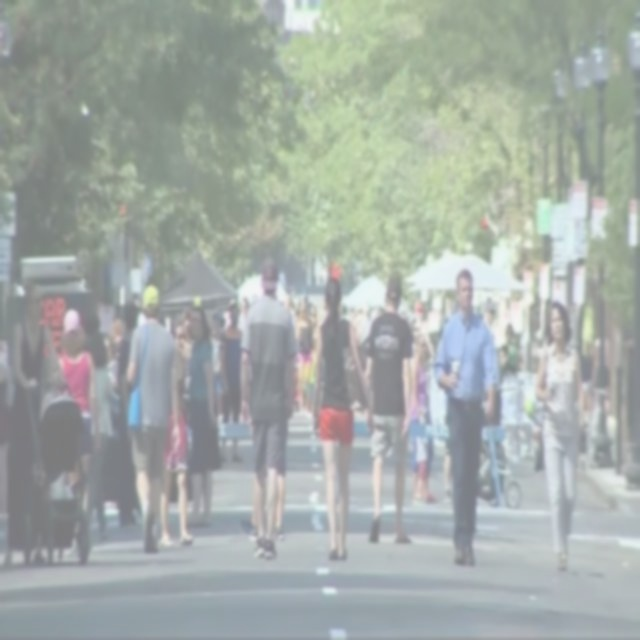pessoa: (0, 275, 71, 575), (430, 262, 498, 568), (308, 269, 375, 563), (238, 256, 296, 560), (125, 282, 182, 555), (534, 294, 590, 570), (362, 273, 416, 548), (48, 301, 97, 557), (180, 299, 226, 535), (158, 316, 194, 550), (83, 333, 115, 541), (238, 419, 290, 542), (116, 302, 140, 528), (409, 332, 439, 508), (219, 301, 244, 464), (436, 316, 453, 505), (482, 297, 504, 429), (294, 301, 316, 416), (38, 352, 74, 422), (337, 294, 383, 344), (483, 425, 505, 508), (282, 290, 320, 336), (209, 318, 224, 416), (498, 321, 524, 376), (404, 302, 429, 347), (102, 316, 124, 367), (226, 286, 251, 330), (178, 304, 196, 351)
